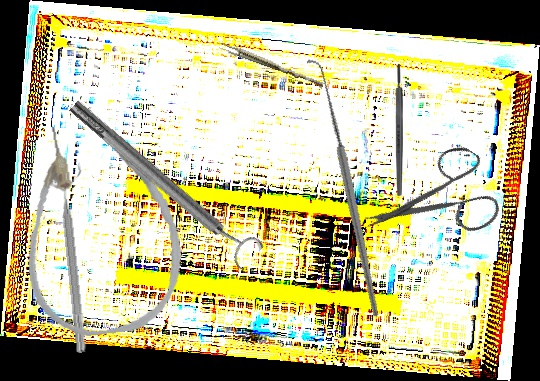Cannula: (12, 112, 190, 343)
Fixation Ring: (62, 89, 266, 274), (50, 158, 103, 354)
Hook Surgical: (238, 57, 448, 319)
Iris Scissors: (360, 121, 520, 284)
Scalpel Handle: (395, 64, 403, 196)
Tissue Forceps: (217, 41, 326, 89)
